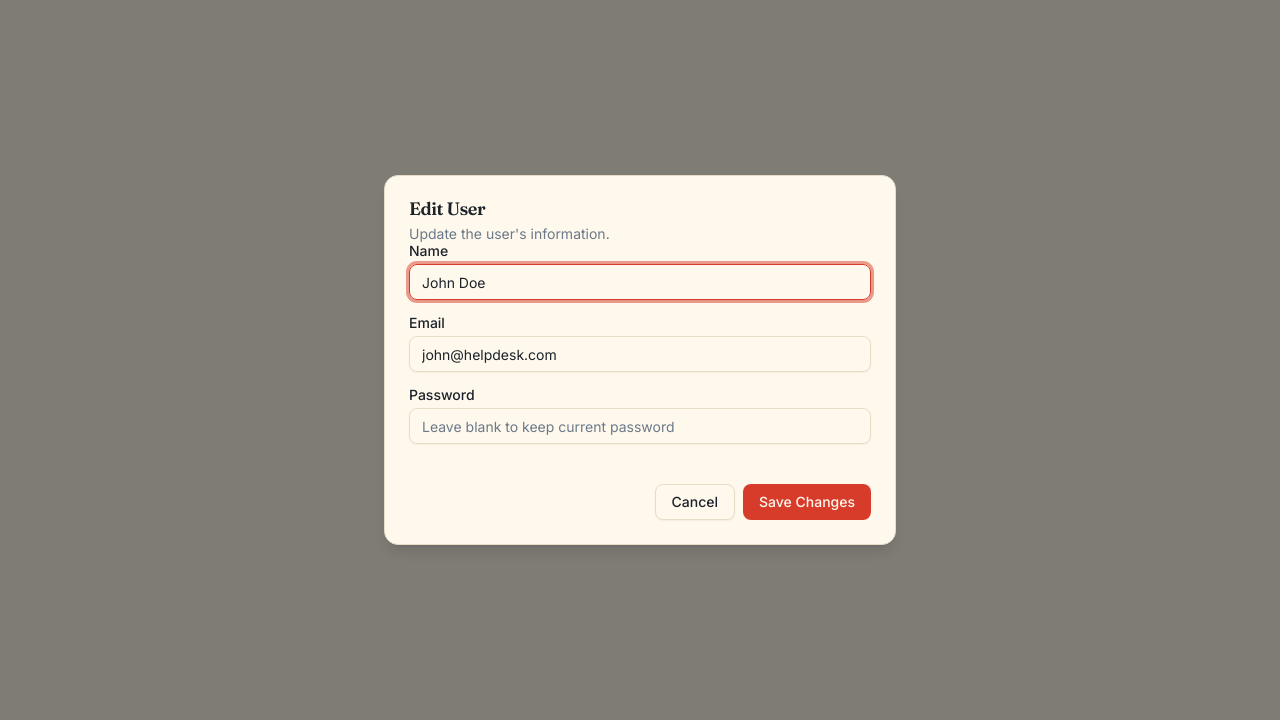
Scenario: EditUserDialog › shows validation error for name shorter than 3 characters
This screenshot has width=1280, height=720.
Replace the text in the field labelled "Name" with "ab" at (640, 282), box [409, 264, 871, 300]
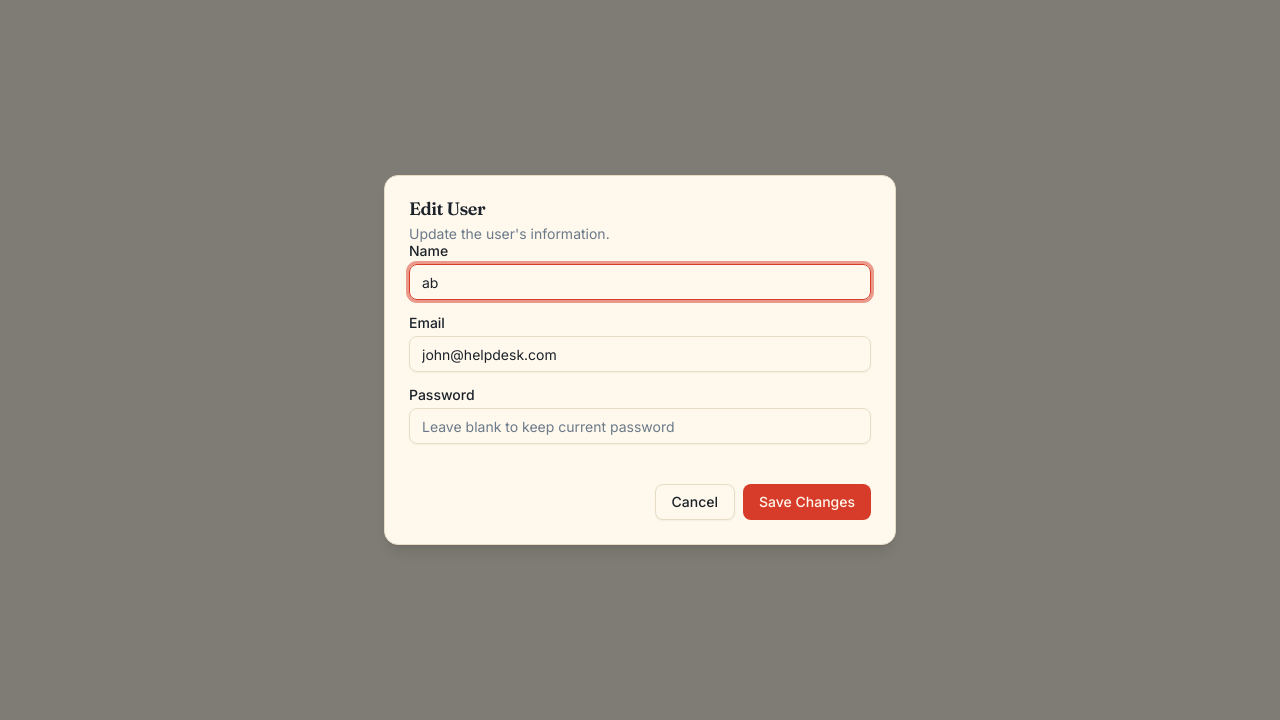
Press Tab
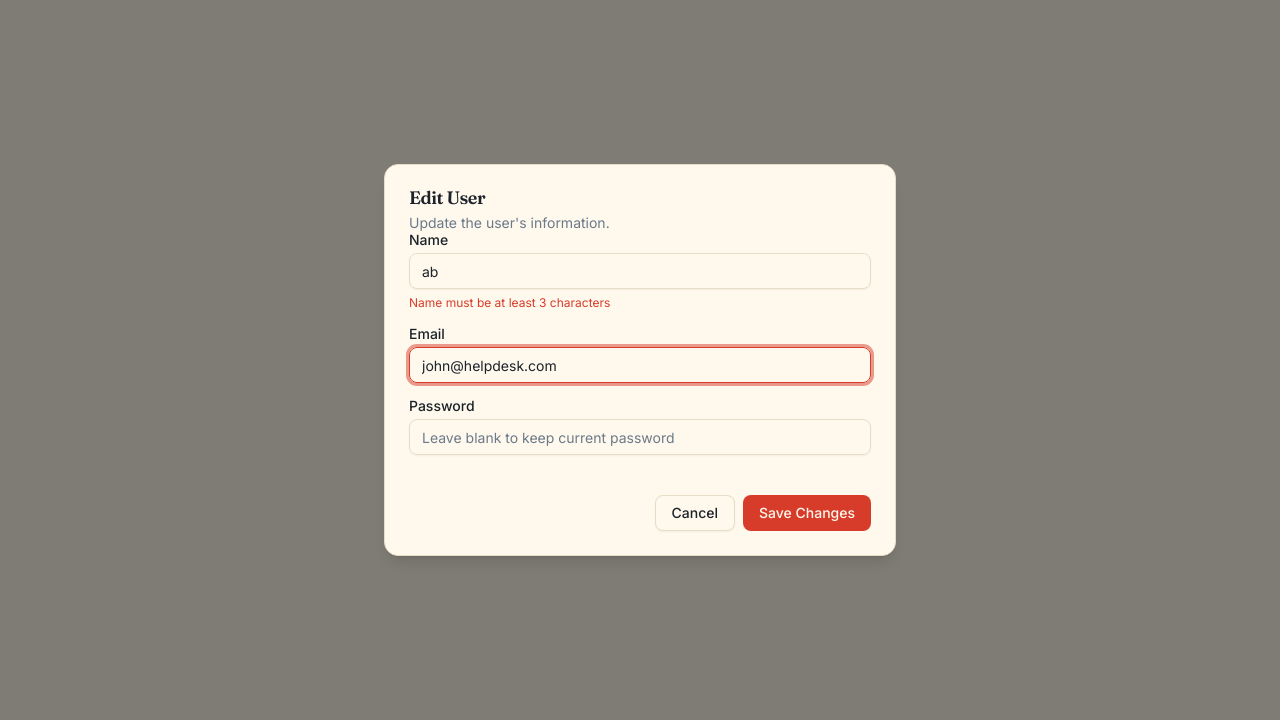
expect the text "Name must be at least 3 characters" is shown: met, box [409, 295, 610, 310]
